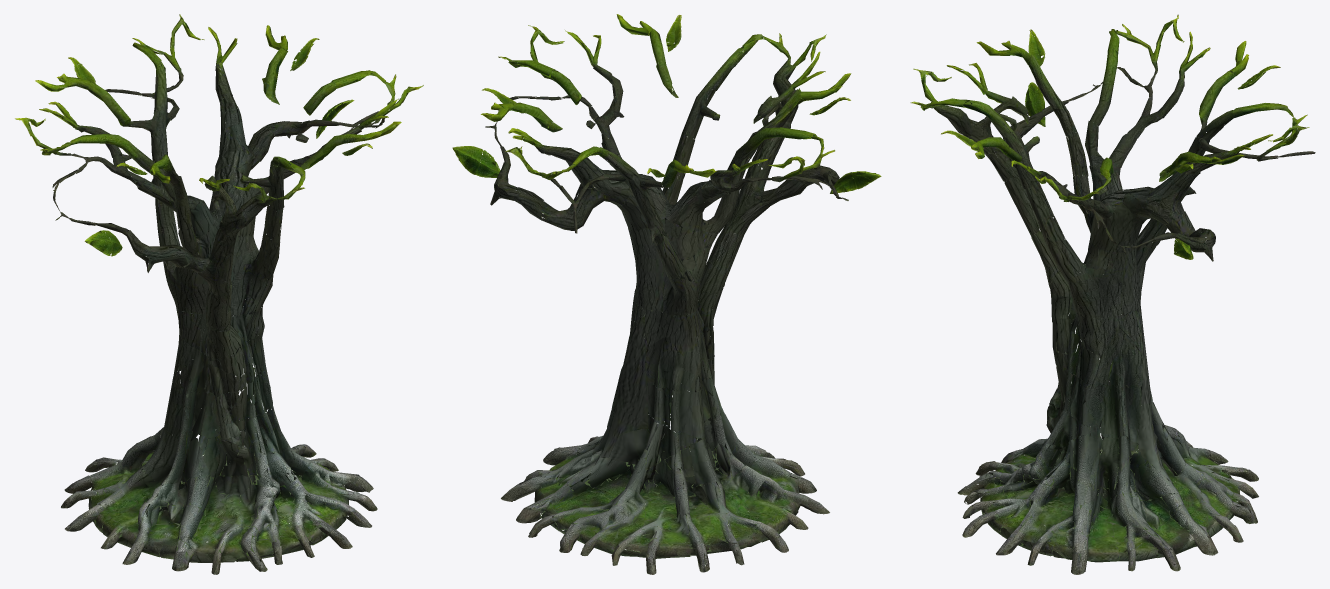
File: jungle_tree_opt.glb
3 renders of one model, left to right at view 1: azimuth 30°, elevation 25°; view 2: azimuth 150°, elevation 25°; view 3: azimuth 270°, elevation 25°, orthographic.
Visible parts, largest first — view 1: jungle_tree_refined; view 2: jungle_tree_refined; view 3: jungle_tree_refined.
Part boxes in pixels (<box>): jungle_tree_refined: <box>15,14,423,574</box>; jungle_tree_refined: <box>452,14,881,574</box>; jungle_tree_refined: <box>910,14,1315,574</box>.
Bounding box in the file's own units: 1.69 × 1.9 × 1.7.
Materials: 1 (1 with a texture image).
